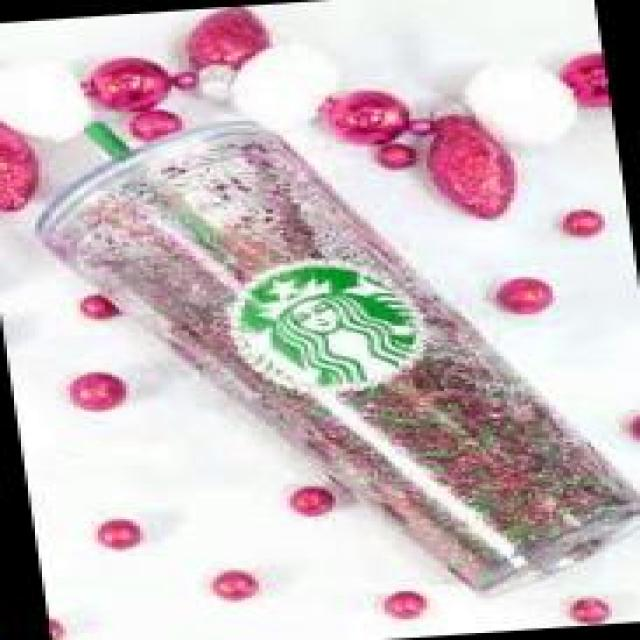bottle: (0, 70, 640, 626)
